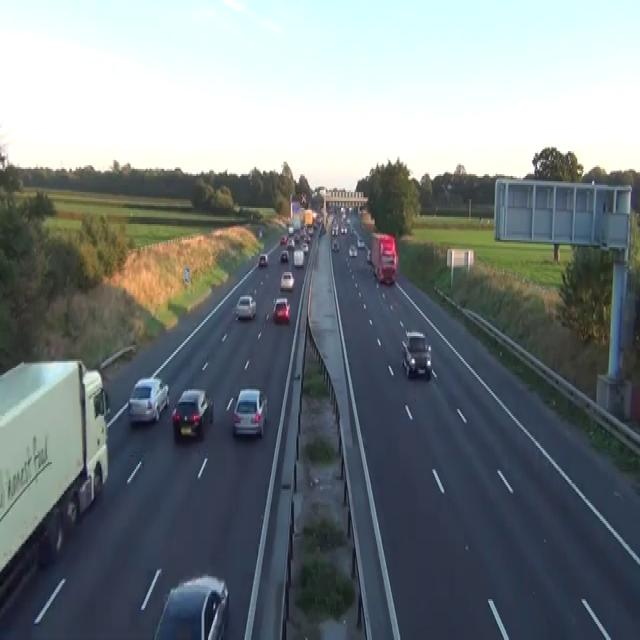Car: (152, 574, 229, 638), (172, 388, 213, 438), (127, 377, 169, 423), (232, 388, 267, 438), (401, 330, 431, 380), (235, 295, 256, 320), (272, 297, 290, 323), (279, 270, 294, 290), (293, 249, 304, 267), (258, 252, 268, 266), (348, 244, 357, 256), (279, 249, 288, 261), (331, 240, 339, 251), (331, 224, 338, 236), (301, 242, 308, 254), (279, 233, 287, 243), (287, 238, 294, 249), (306, 224, 313, 235), (357, 237, 364, 247), (340, 224, 346, 235), (319, 224, 325, 235), (366, 249, 371, 261), (312, 210, 317, 220), (294, 233, 299, 242), (288, 226, 293, 234), (348, 206, 353, 214), (259, 228, 262, 236), (350, 226, 353, 234)
Truck: (0, 357, 109, 608), (370, 231, 398, 285)
